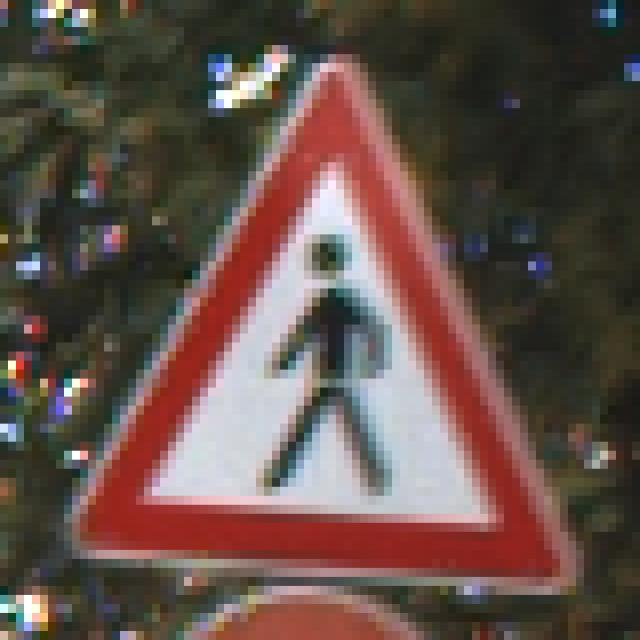Attention-Passage-Pieton: (65, 57, 572, 597)
